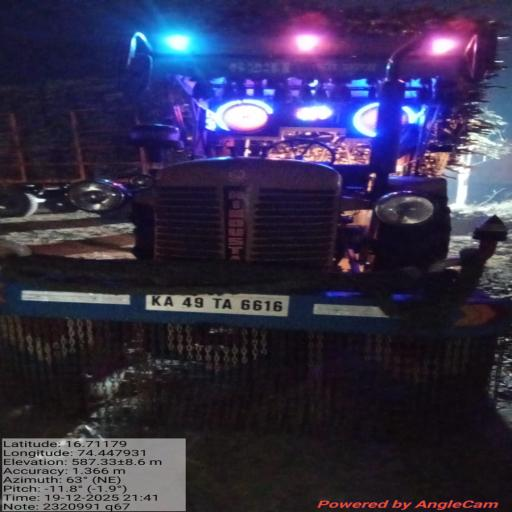number_plate: (140, 288, 297, 319)
